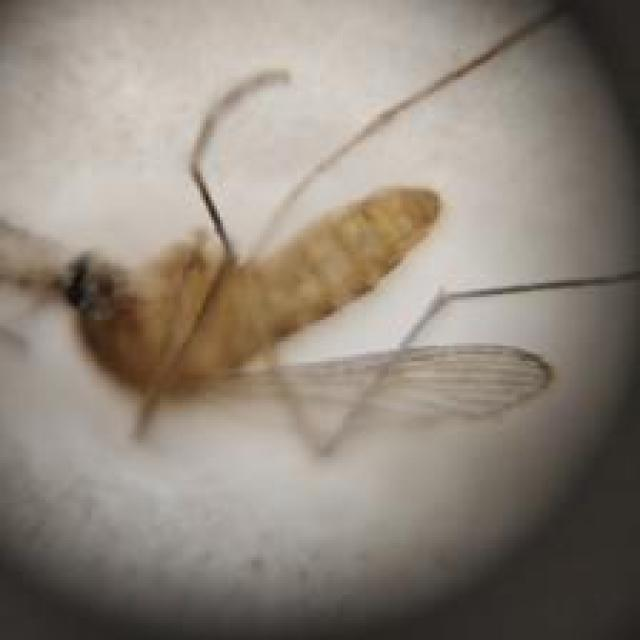Culex: (0, 66, 557, 460)
